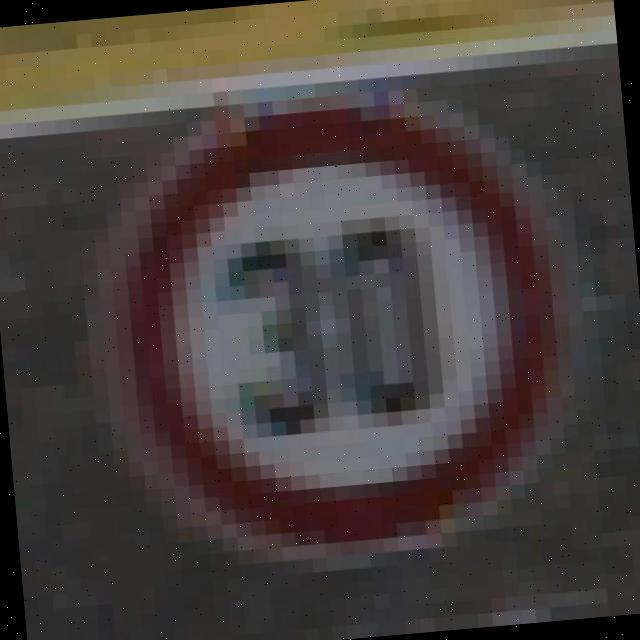Ograniczenie predkosci do 30: (95, 79, 588, 576)
